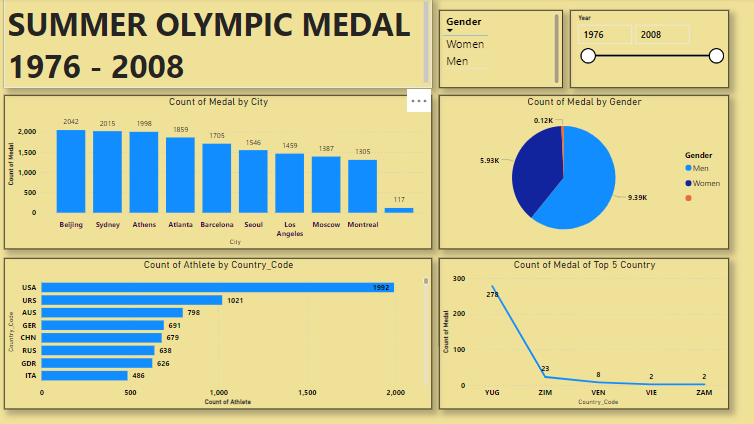

Layout of this report page (visuals, bound fields, positions):
{"tool":"powerbi","page":{"name":"Page 1","canvas":[1280,720],"ordinal":0},"visuals":[{"type":"columnChart","fields":{"Category":["Summer-Olympic-medals-1976-to-2008.City"],"Y":["CountNonNull(Summer-Olympic-medals-1976-to-2008.Medal)"]},"box":[16.8,162.9,719,258.7],"z":0},{"type":"pieChart","fields":{"Category":["Summer-Olympic-medals-1976-to-2008.Gender"],"Y":["CountNonNull(Summer-Olympic-medals-1976-to-2008.Medal)"]},"box":[747.5,162.9,487.1,258.7],"z":1000},{"type":"slicer","fields":{"Values":["Summer-Olympic-medals-1976-to-2008.Year"]},"box":[967.6,20.2,267.1,131],"z":2000},{"type":"lineChart","title":"Count of Medal of Top 5 Country","fields":{"Category":["Summer-Olympic-medals-1976-to-2008.Country_Code"],"Y":["CountNonNull(Summer-Olympic-medals-1976-to-2008.Medal)"]},"box":[747.5,436.7,487.1,253.6],"z":3000},{"type":"textbox","box":[16.8,0,719,151.2],"z":4000},{"type":"tableEx","fields":{"Values":["Summer-Olympic-medals-1976-to-2008.Gender"]},"box":[747.5,20.2,208.3,131],"z":5000},{"type":"barChart","fields":{"Category":["Summer-Olympic-medals-1976-to-2008.Country_Code"],"Y":["CountNonNull(Summer-Olympic-medals-1976-to-2008.Athlete)"]},"box":[17,437,719,254],"z":5001}]}

Visuals, with their boxes in screenshot pixels (x1, y1, x2, y2), scaled from the page's 1280x720 canvas onto the 754x424 screenshot:
columnChart - Summer-Olympic-medals-1976-to-2008.City x CountNonNull(Summer-Olympic-medals-1976-to-2008.Medal): bbox=[10, 96, 433, 248]
pieChart - Summer-Olympic-medals-1976-to-2008.Gender x CountNonNull(Summer-Olympic-medals-1976-to-2008.Medal): bbox=[440, 96, 727, 248]
slicer - Summer-Olympic-medals-1976-to-2008.Year: bbox=[570, 12, 727, 89]
"Count of Medal of Top 5 Country" lineChart: bbox=[440, 257, 727, 407]
textbox: bbox=[10, 0, 433, 89]
tableEx - Summer-Olympic-medals-1976-to-2008.Gender: bbox=[440, 12, 563, 89]
barChart - Summer-Olympic-medals-1976-to-2008.Country_Code x CountNonNull(Summer-Olympic-medals-1976-to-2008.Athlete): bbox=[10, 257, 434, 407]
